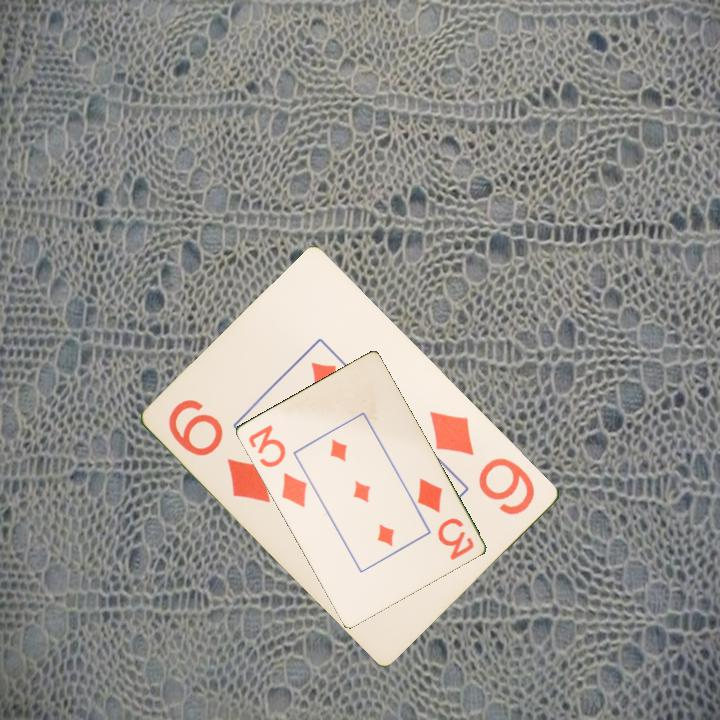3d: (244, 421, 310, 510), (413, 474, 477, 563)
6d: (426, 407, 539, 519), (165, 395, 274, 506)
